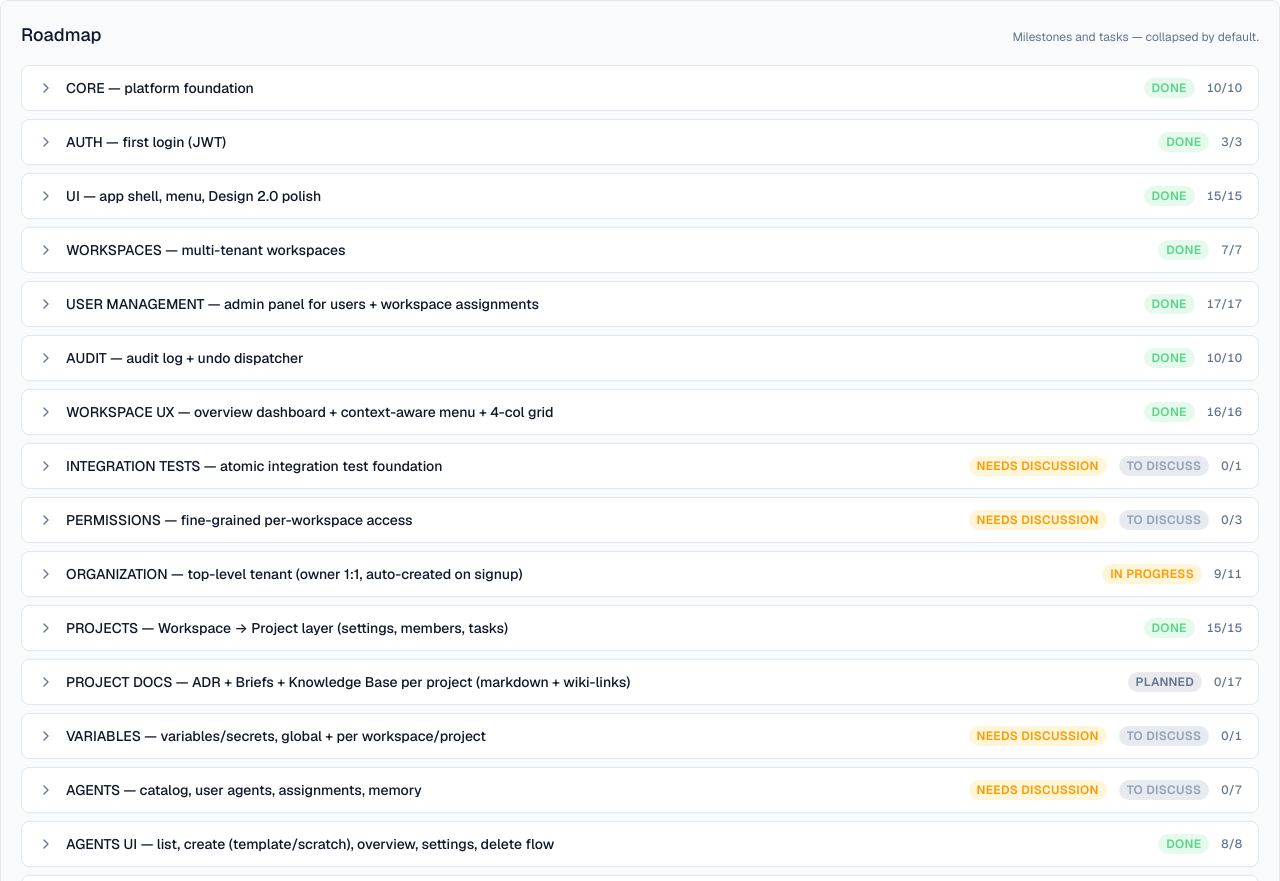
Test: RoadmapPanel › should render the UI milestone with its BL-UI tasks and commit links
Click the text "UI — app shell, menu, Design 2.0 polish": (194, 196) [66, 187, 321, 205]
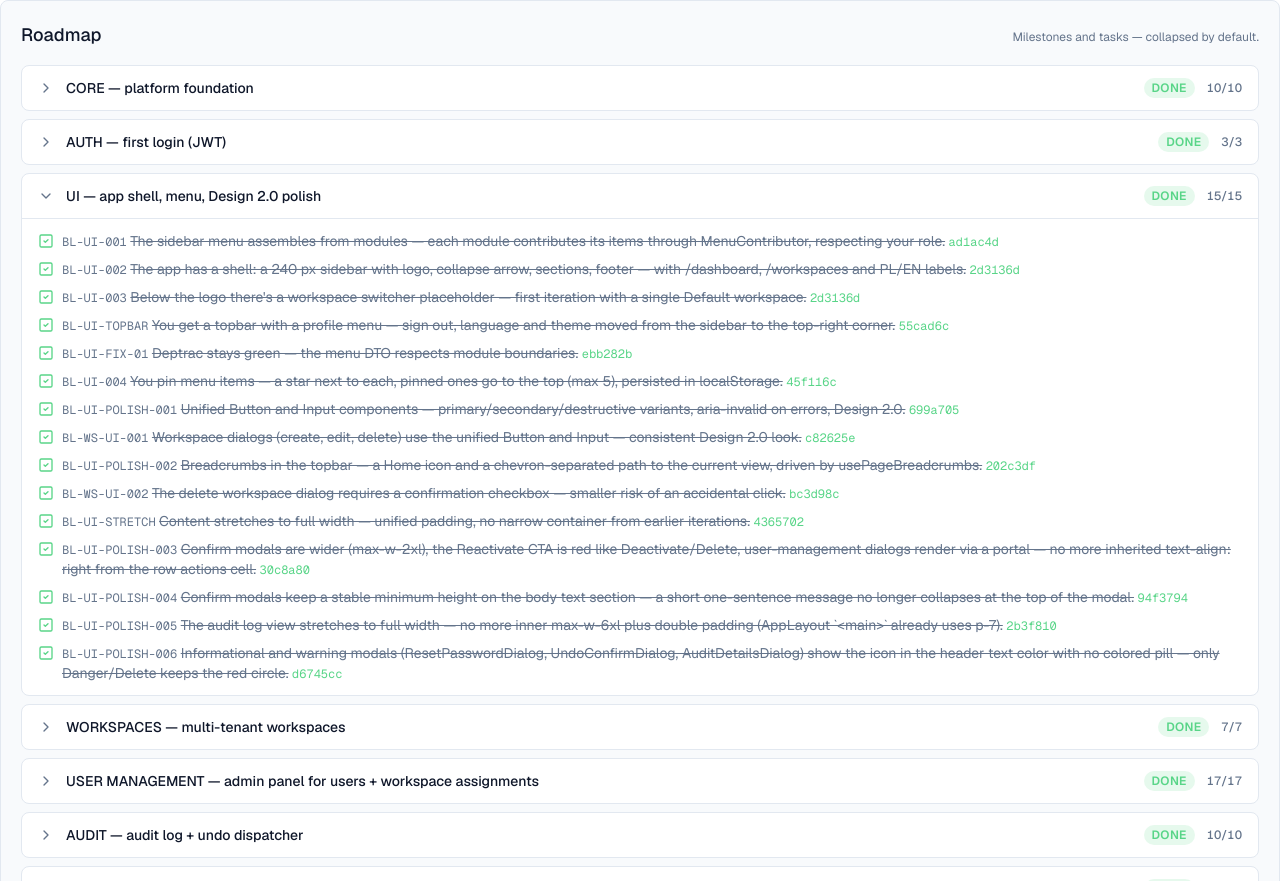
Check: the text "BL-UI-001" is shown, box [62, 234, 127, 250]
Check: the text "BL-UI-004" is shown, box [62, 374, 127, 390]
Check: the text "BL-UI-POLISH-001" is shown, box [62, 402, 177, 418]
